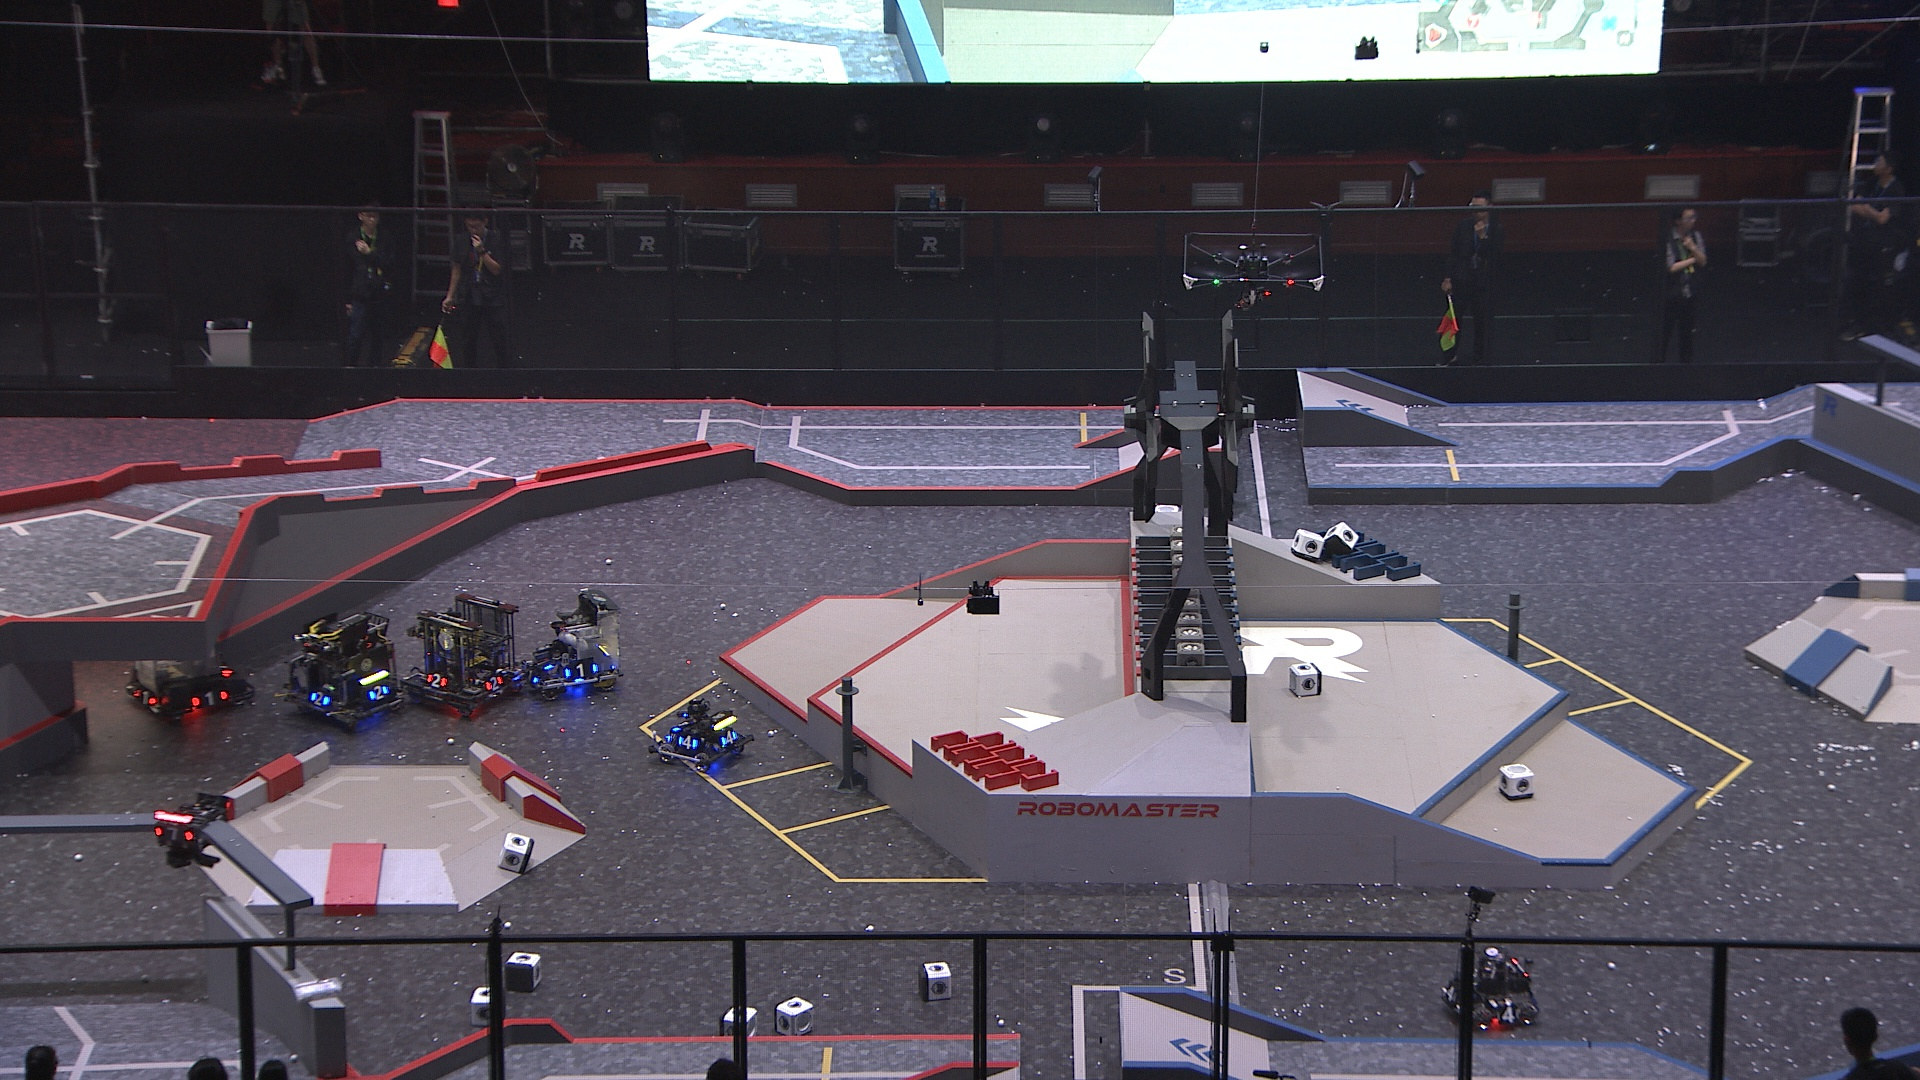armor: (186, 687, 229, 712), (558, 659, 603, 680), (153, 822, 196, 843), (128, 684, 157, 708), (1494, 1005, 1523, 1025), (535, 647, 558, 669), (423, 671, 448, 690), (214, 659, 235, 680), (484, 671, 504, 694), (367, 684, 390, 703), (1443, 981, 1458, 1007), (518, 665, 539, 684), (717, 727, 738, 746), (674, 735, 698, 752), (309, 690, 330, 707), (670, 716, 694, 731)
car: (282, 608, 419, 731), (404, 589, 524, 721), (125, 603, 251, 723), (512, 589, 621, 703), (1437, 943, 1542, 1031), (647, 694, 752, 773)
watcher: (146, 790, 237, 872)
